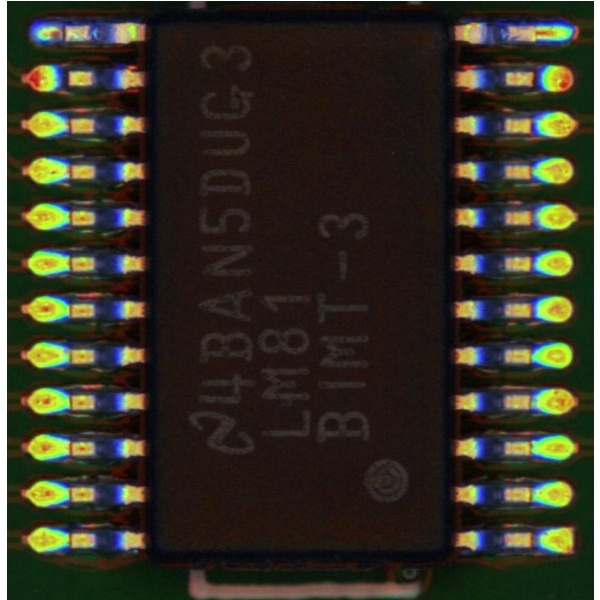Bad_podu: (48, 25, 77, 36), (523, 26, 549, 36)
